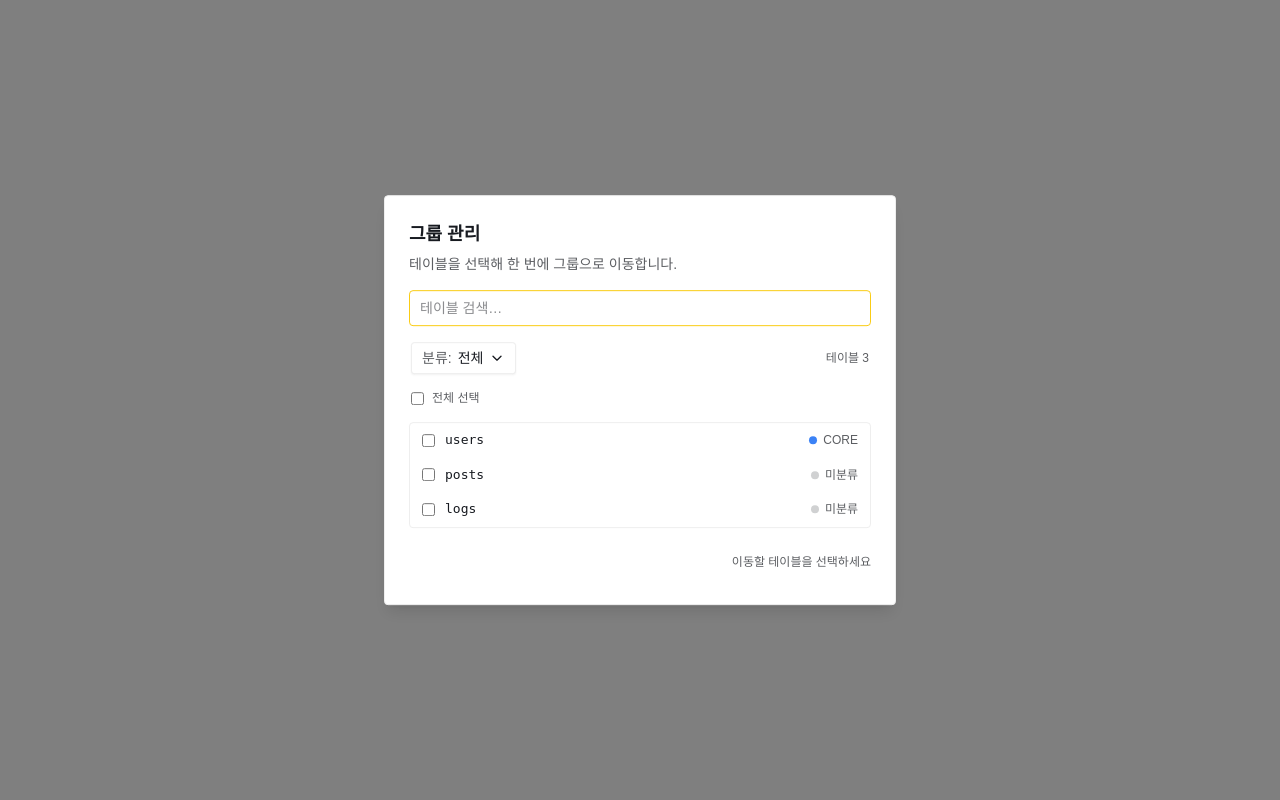
Test case: ManageGroupsDialog › group filter + text filter combine (AND)
Click the button with test id "mg-groupfilter-trigger".
click(464, 358)  # box [411,342,516,374]
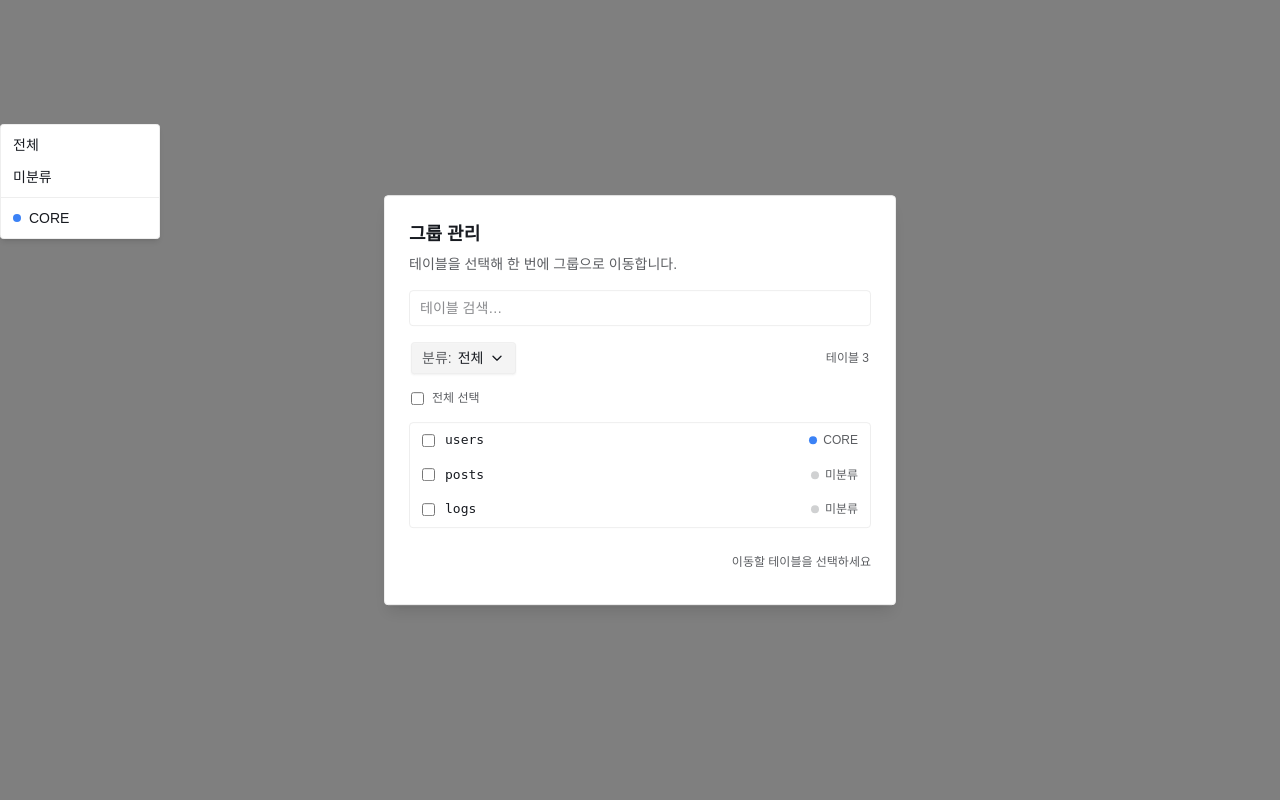
Click the menu item with test id "mg-groupfilter-ungrouped".
click(32, 177)  # box [13,169,52,185]
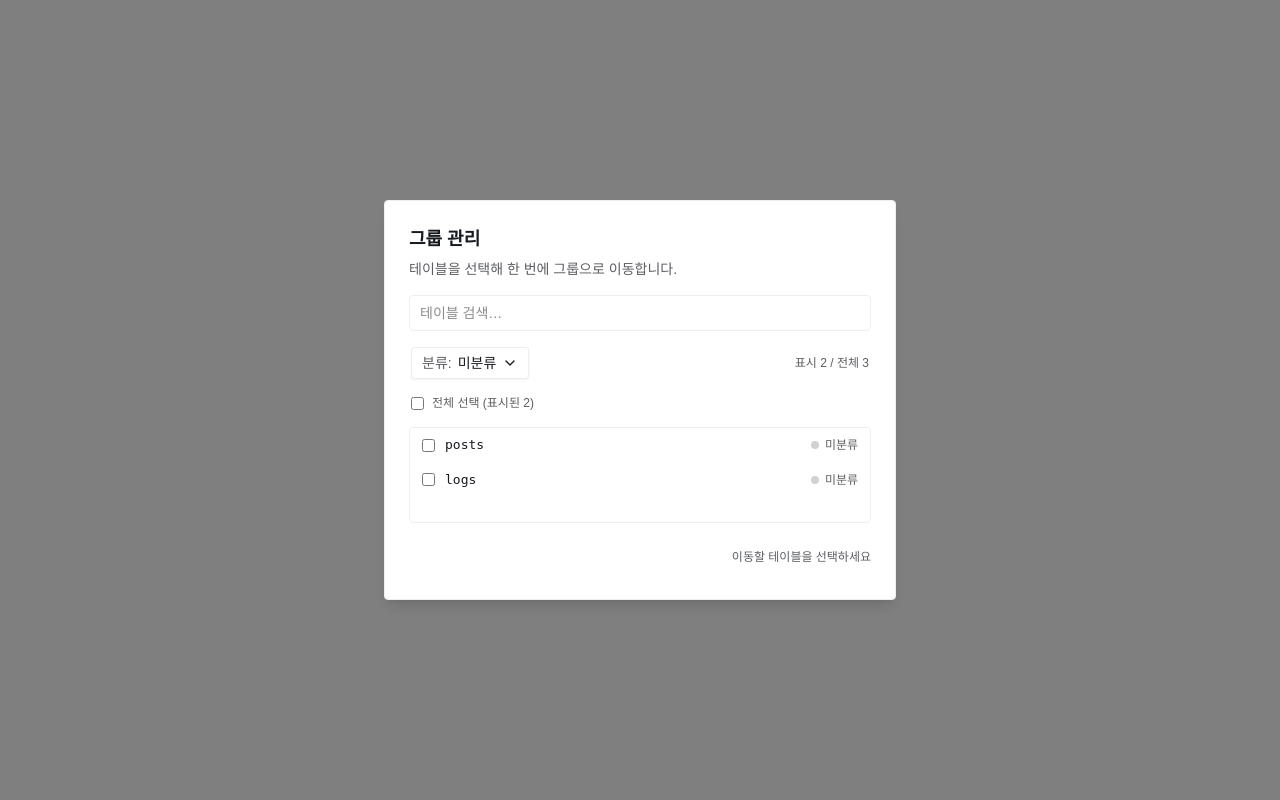
Type "pos" into the field with test id "mg-filter".
click(640, 313); type("pos")  # box [409,295,871,331]
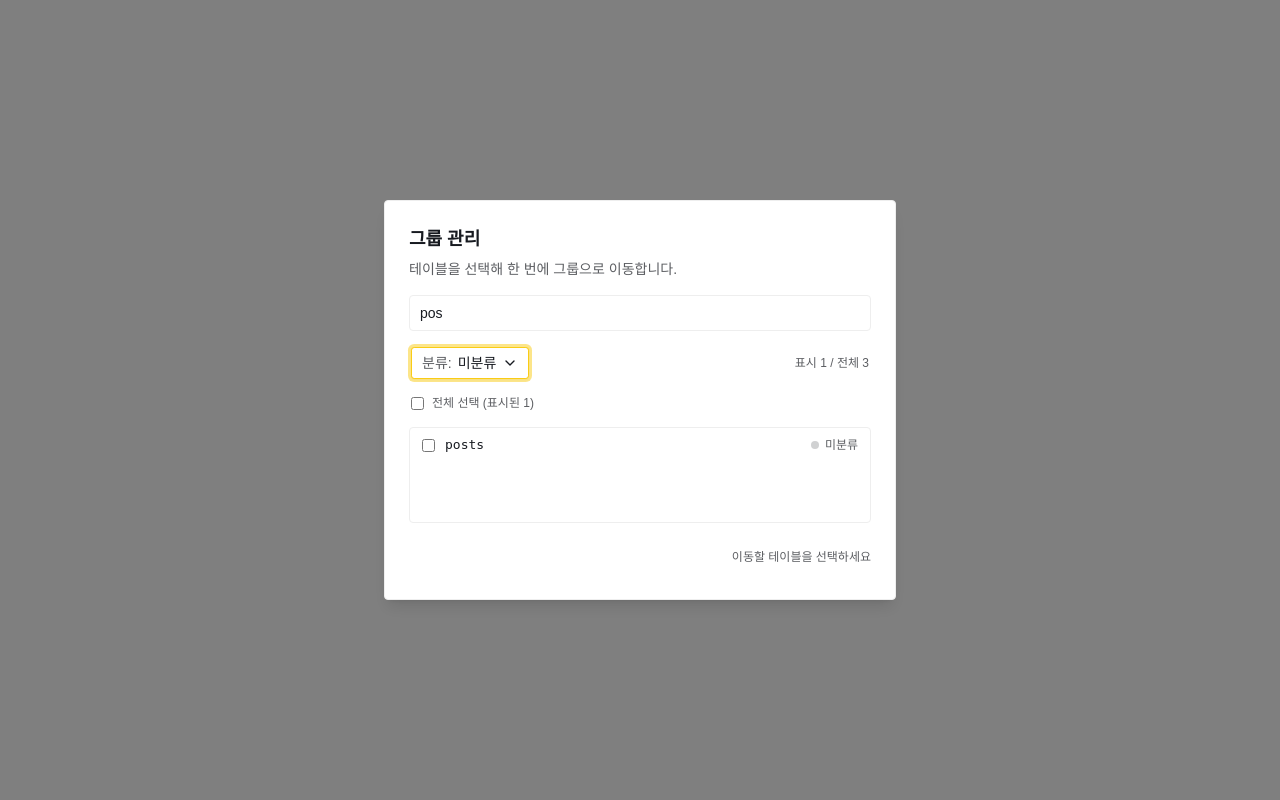
Check: the text "posts 미분류" is shown, box [422,437,858,452]
Check: the label with test id "mg-row-logs" is gone
